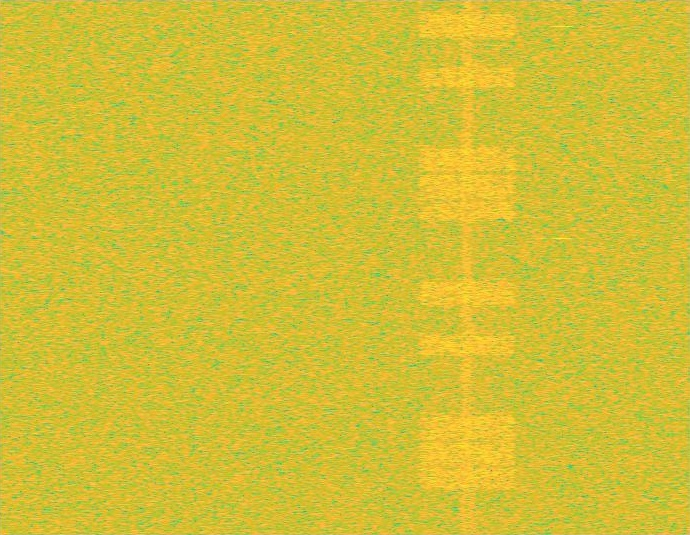DSSS: (460, 0, 474, 534)
LTE: (416, 0, 519, 534)
Radar: (555, 0, 569, 534)
